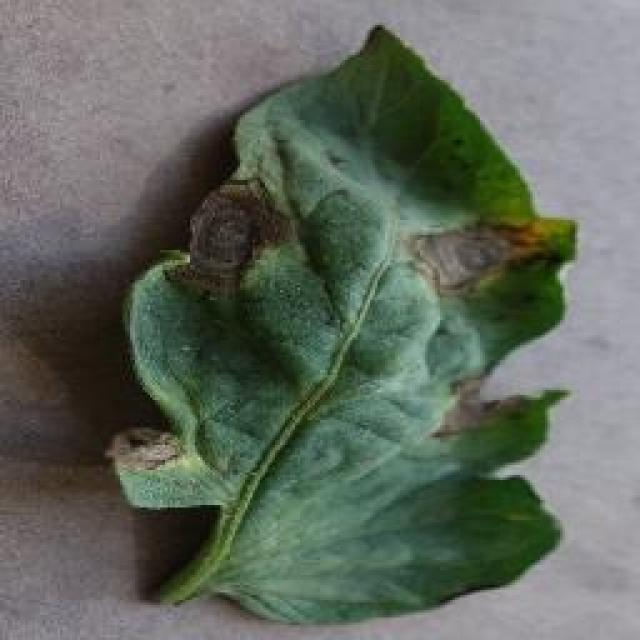Tomato Early blight leaf: (108, 34, 558, 631)
